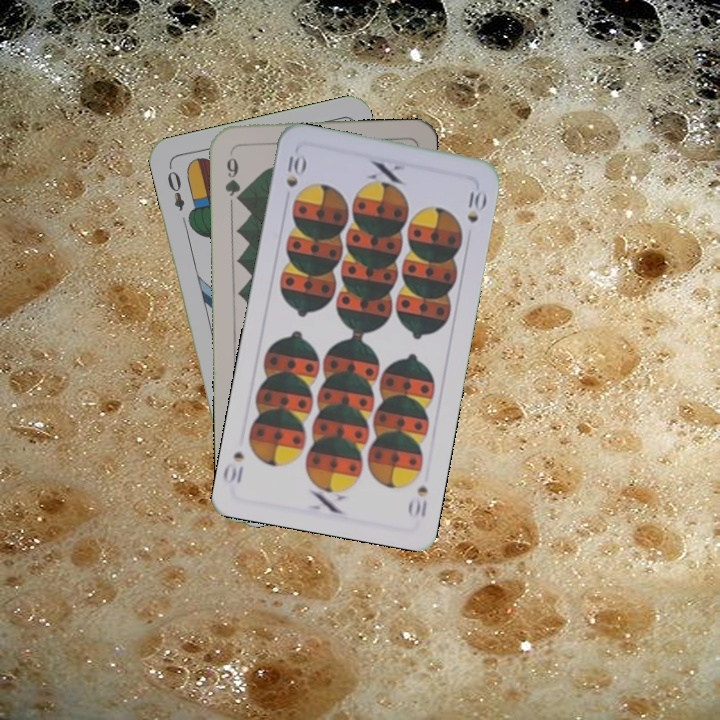EO: (163, 166, 187, 213)
G9: (220, 147, 244, 205)
S10: (282, 151, 308, 190), (404, 482, 430, 520)
